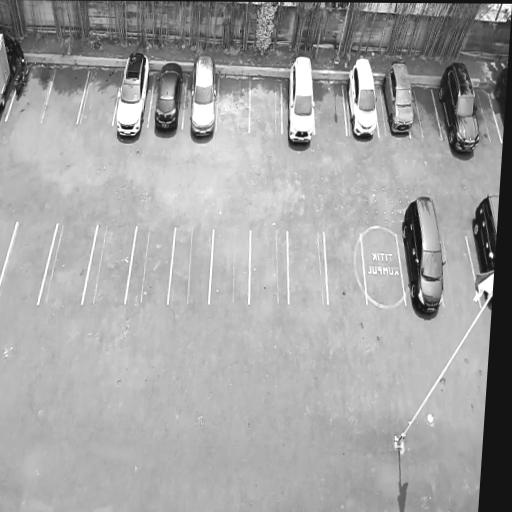Car: (397, 192, 448, 314), (435, 63, 484, 163), (111, 50, 155, 137), (470, 189, 499, 318), (346, 59, 380, 146), (381, 56, 417, 138), (285, 57, 317, 144), (151, 64, 188, 137), (187, 56, 216, 137), (0, 22, 23, 122), (493, 61, 508, 132)
Space Available: (34, 211, 100, 323), (79, 211, 140, 324), (123, 209, 178, 329), (0, 206, 61, 311), (165, 210, 216, 326), (360, 209, 410, 319), (208, 209, 255, 324), (324, 205, 369, 318), (288, 208, 332, 321), (248, 207, 291, 322), (3, 60, 55, 127), (75, 66, 122, 132), (41, 64, 88, 130), (214, 74, 249, 155), (314, 79, 349, 157), (248, 74, 283, 151), (410, 84, 447, 149), (473, 84, 502, 150)
